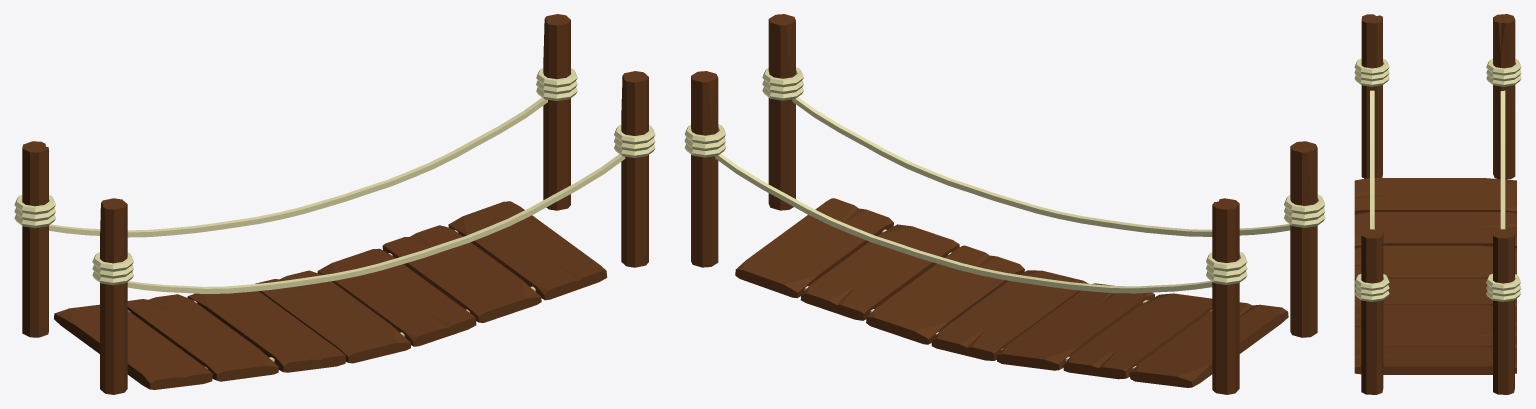
The model's file is Bridge.fbx.
3 renders of one model, left to right at view 1: azimuth 30°, elevation 25°; view 2: azimuth 150°, elevation 25°; view 3: azimuth 270°, elevation 25°, orthographic. The views are drawn at different scales.
Parts seen in each view (by area): view 1: Cube.001, Cube.002, Cube.003, Cube.007, Cube.005, Cube.006, Cube.004, Cube.012, Cube.011, Cube.013, Cube.014, Cube.009 (+1 smaller); view 2: Cube.001, Cube.002, Cube.003, Cube.007, Cube.005, Cube.006, Cube.004, Cube.012, Cube.013, Cube.014, Cube.011, Cube.010 (+1 smaller); view 3: Cube.004, Cube.005, Cube.006, Cube.001, Cube.011, Cube.014, Cube.013, Cube.007, Cube.012, Cube.002, Cube.003, Cube.010 (+13 smaller).
Boxes of the visible parts, left/top/right/bottom form: Cube.001: left=448, top=201, right=607, bottom=300; Cube.002: left=382, top=225, right=541, bottom=322; Cube.003: left=317, top=248, right=476, bottom=346; Cube.007: left=255, top=270, right=410, bottom=363; Cube.005: left=127, top=294, right=278, bottom=381; Cube.006: left=187, top=291, right=346, bottom=372; Cube.004: left=54, top=304, right=212, bottom=389; Cube.012: left=100, top=198, right=127, bottom=394; Cube.011: left=621, top=71, right=648, bottom=267; Cube.013: left=22, top=141, right=48, bottom=337; Cube.014: left=543, top=14, right=570, bottom=210; Cube.009: left=127, top=154, right=625, bottom=293; Cube.001: left=735, top=198, right=893, bottom=298; Cube.002: left=800, top=224, right=959, bottom=320; Cube.003: left=866, top=245, right=1024, bottom=344; Cube.007: left=931, top=270, right=1088, bottom=360; Cube.005: left=1063, top=293, right=1212, bottom=379; Cube.006: left=996, top=283, right=1154, bottom=370; Cube.004: left=1129, top=302, right=1288, bottom=387; Cube.012: left=1290, top=141, right=1317, bottom=337; Cube.013: left=1212, top=198, right=1239, bottom=394; Cube.014: left=691, top=71, right=718, bottom=267; Cube.011: left=768, top=14, right=795, bottom=210; Cube.010: left=715, top=153, right=1212, bottom=293; Cube.004: left=1354, top=178, right=1516, bottom=213; Cube.005: left=1354, top=212, right=1516, bottom=248; Cube.006: left=1354, top=245, right=1516, bottom=279; Cube.001: left=1354, top=346, right=1516, bottom=374; Cube.011: left=1361, top=229, right=1383, bottom=394; Cube.014: left=1493, top=229, right=1514, bottom=394; Cube.013: left=1493, top=14, right=1515, bottom=179; Cube.007: left=1354, top=278, right=1516, bottom=307; Cube.012: left=1361, top=14, right=1382, bottom=178; Cube.002: left=1354, top=325, right=1516, bottom=348; Cube.003: left=1354, top=304, right=1516, bottom=326; Cube.010: left=1500, top=90, right=1505, bottom=229.
Bounding box in the file's own units: 2840 × 1011 × 873.
